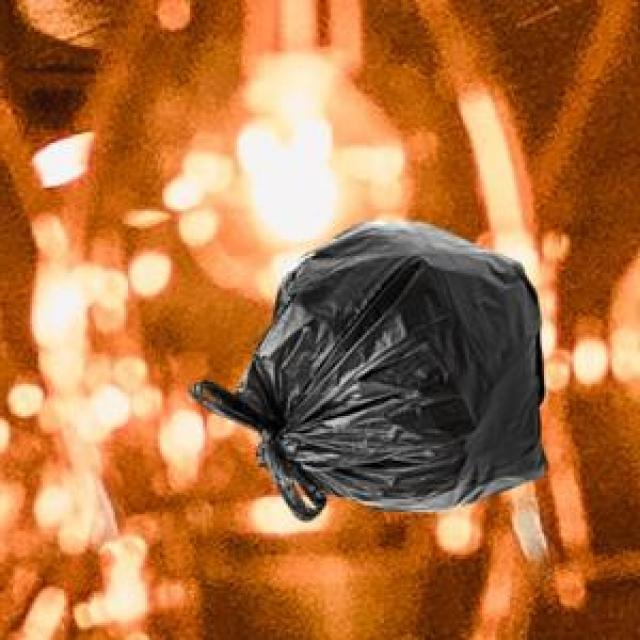Trashbag: (187, 215, 556, 523)
